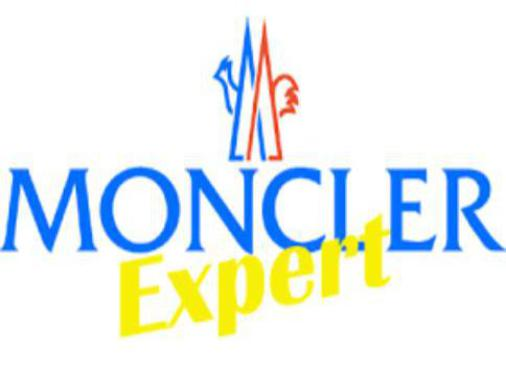MONCLER: (1, 166, 506, 256), (211, 12, 300, 162)
